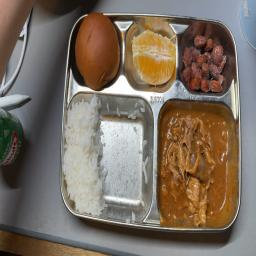100_bread: (72, 10, 121, 91)
100_nuts: (180, 30, 226, 93)
100_orange: (128, 26, 178, 88)
25_rice: (65, 94, 152, 220)
75_beef: (158, 101, 232, 226)
